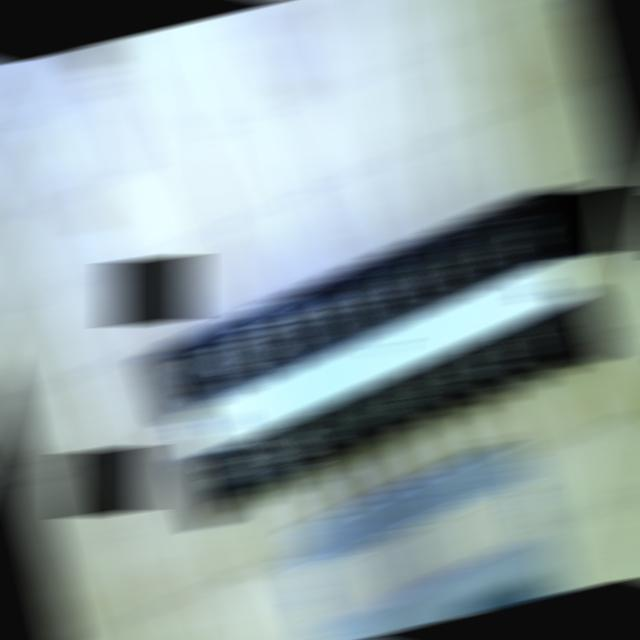Phillips_Block: (131, 184, 634, 527)
